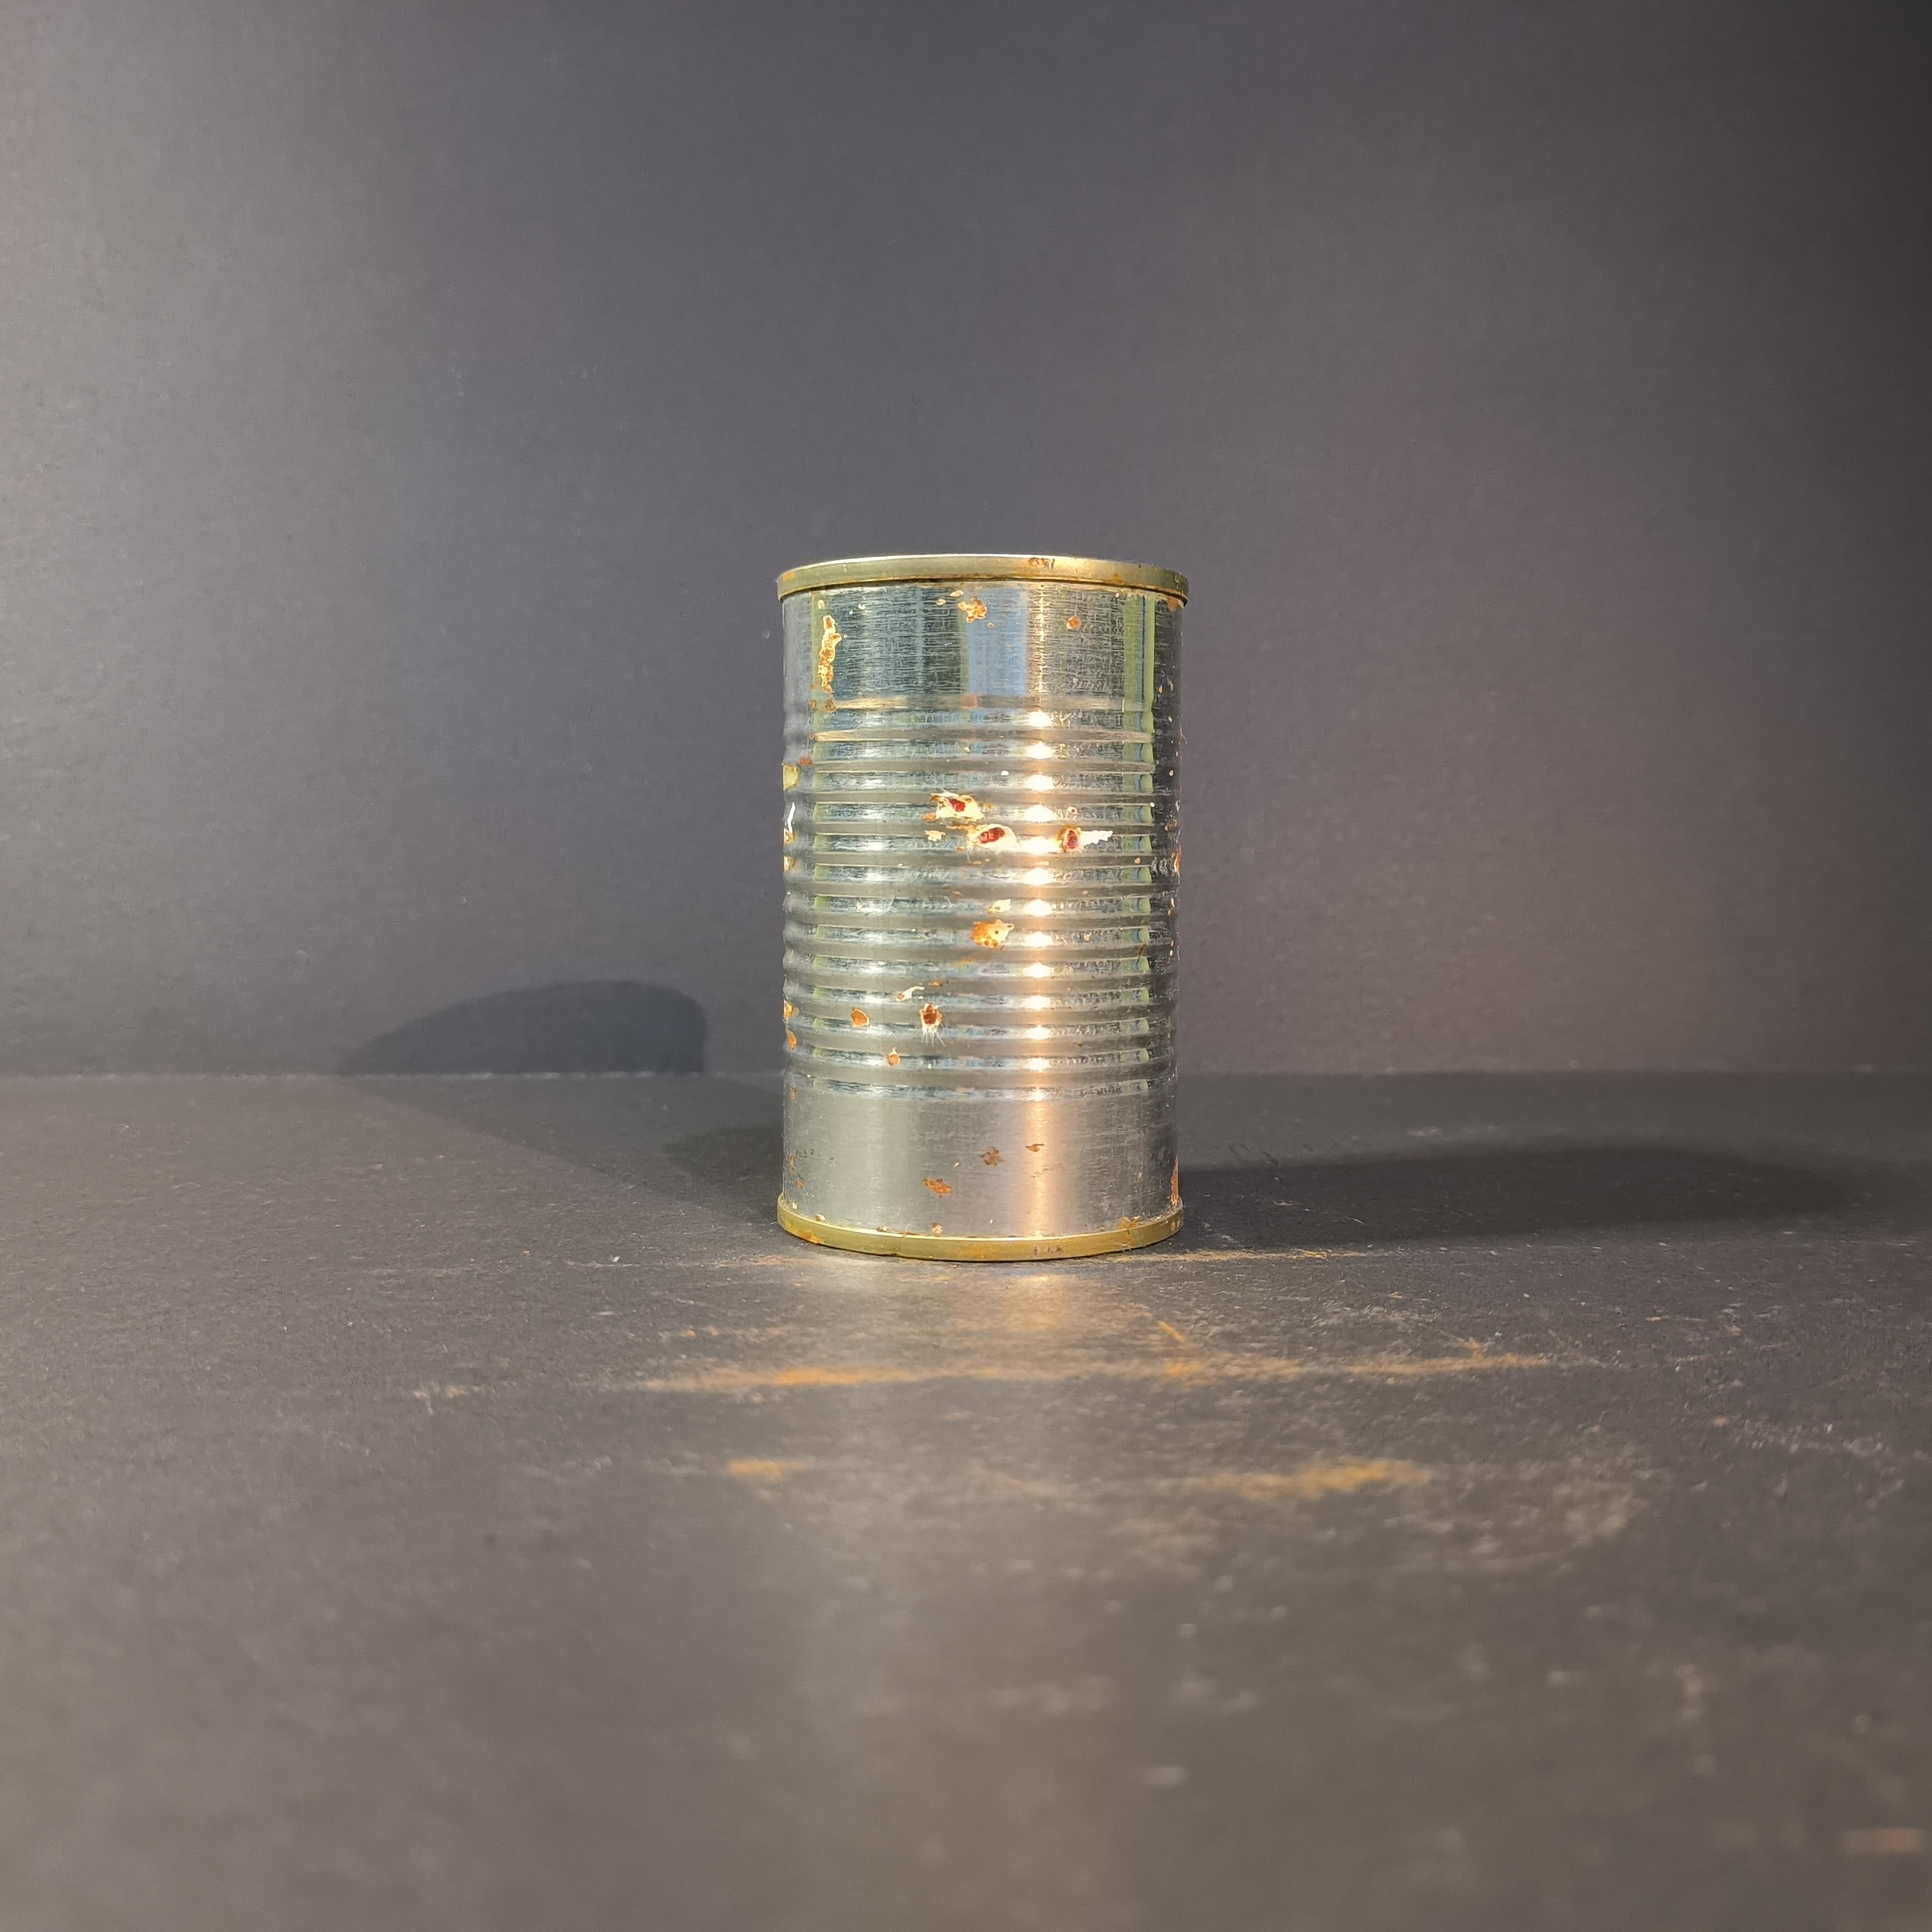Rusted: (725, 525, 1224, 1311)
